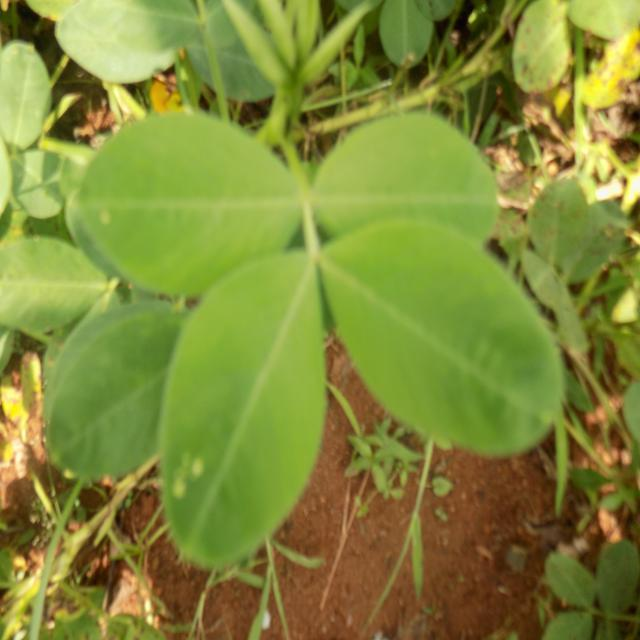Ground nut_healthy: (318, 222, 564, 454), (160, 252, 331, 558), (72, 110, 308, 295), (318, 111, 496, 278)
